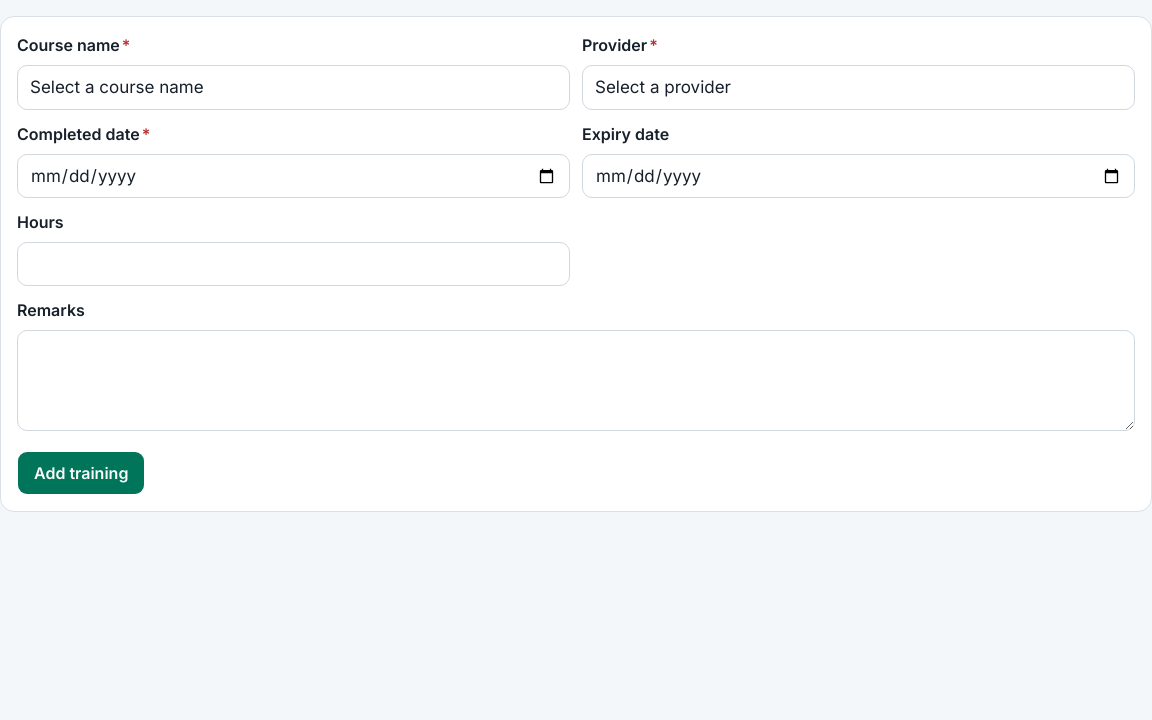
Test case: RecordEntryForm › offers PNP credentials as dropdowns and asks for a choice when none is made
Click the button "Add training": [81, 473] box [17,451,145,495]
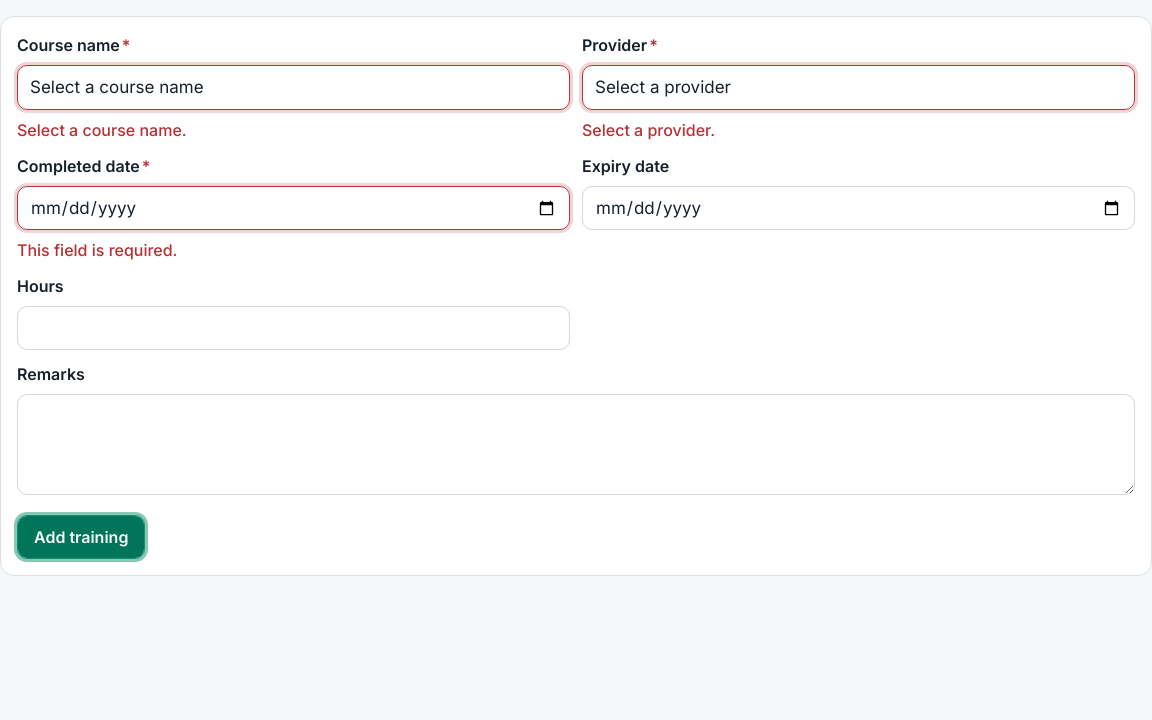
Expected: the text "Select a course name." is shown, [17,120,187,140]
Expected: the text "Select a provider." is shown, [582,120,715,140]
